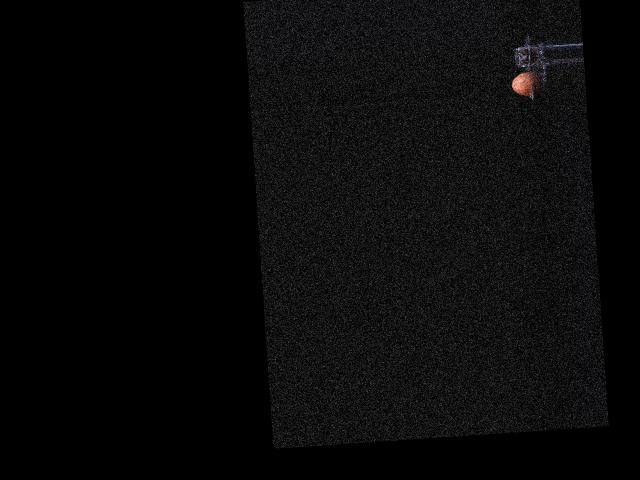egg: (511, 71, 544, 97)
